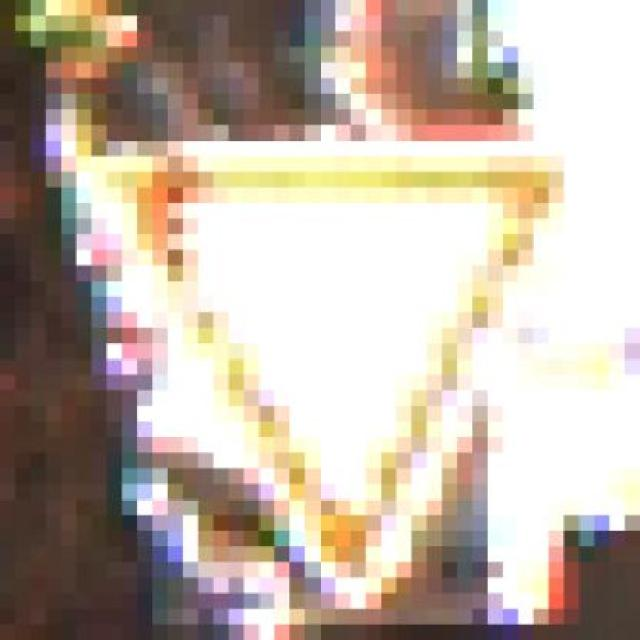Give Way: (92, 93, 610, 624)
